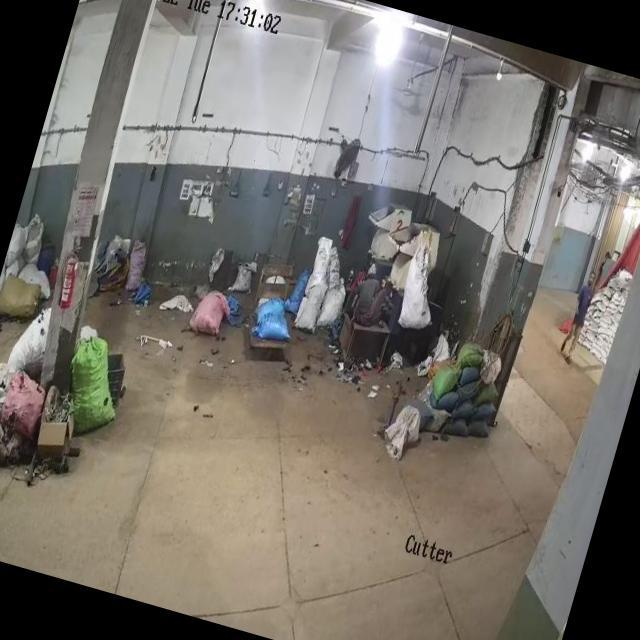person: (556, 267, 600, 364)
